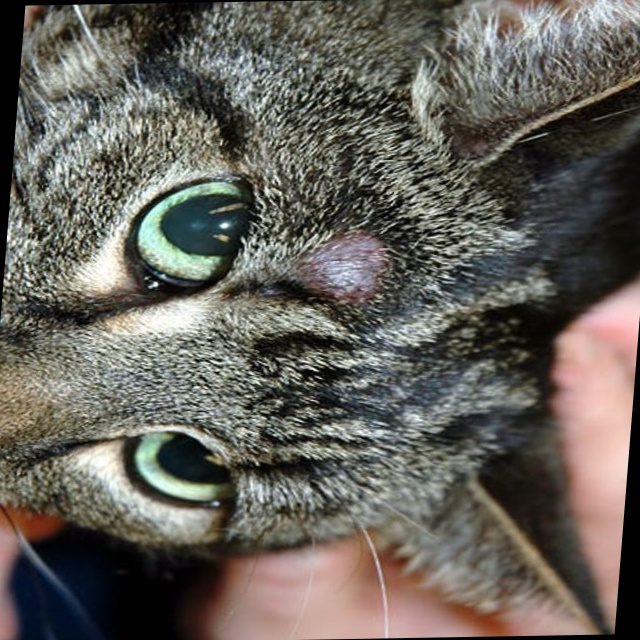lump_and_bump: (298, 232, 391, 302)
